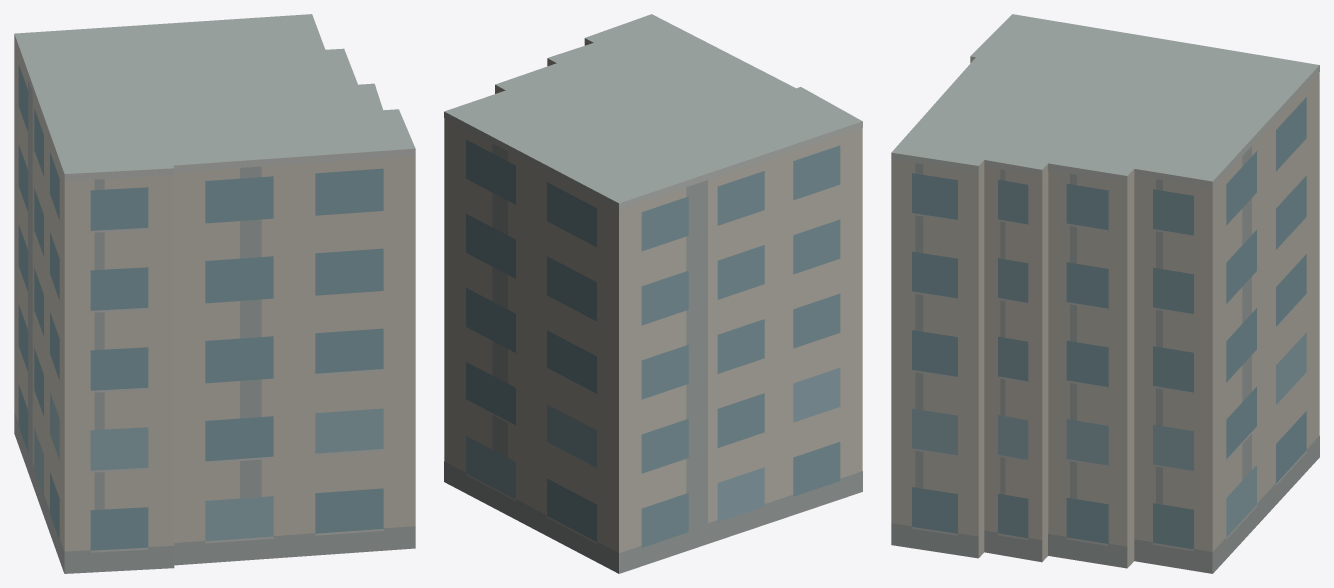
The model's file is survey-upis-32507012.glb.
3 renders of one model, left to right at view 1: azimuth 30°, elevation 25°; view 2: azimuth 150°, elevation 25°; view 3: azimuth 270°, elevation 25°, orthographic. The views are drawn at different scales.
Parts seen in each view (by area): view 1: survey-upis-32507012.tmp; view 2: survey-upis-32507012.tmp; view 3: survey-upis-32507012.tmp.
Part boxes in pixels (box(x1,y1,x2,y2)): survey-upis-32507012.tmp: box(14, 14, 415, 573); survey-upis-32507012.tmp: box(444, 14, 862, 573); survey-upis-32507012.tmp: box(891, 14, 1319, 573).
Size of the model in its own units: 12.73 by 13.9 by 13.76.
